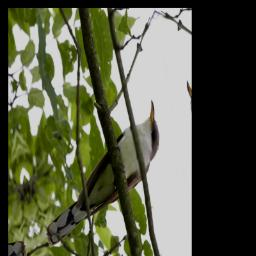Cuckoo: (33, 97, 169, 248)
